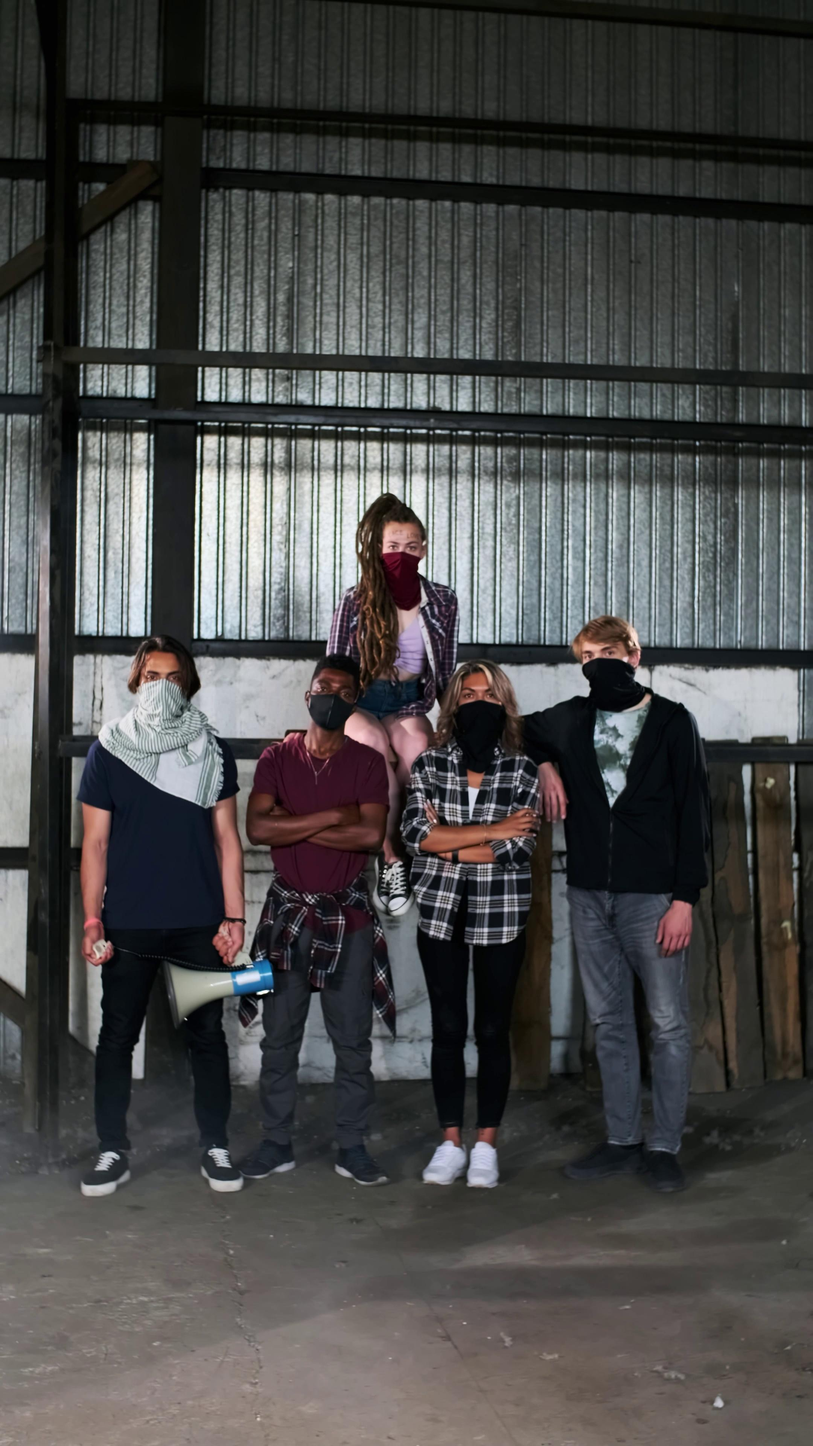mask: (455, 699, 507, 772), (134, 679, 190, 742), (582, 657, 643, 708), (381, 552, 423, 608), (311, 694, 356, 732)
person: (519, 615, 711, 1195), (76, 636, 247, 1197), (239, 653, 397, 1188), (399, 659, 545, 1192), (324, 493, 463, 918)
